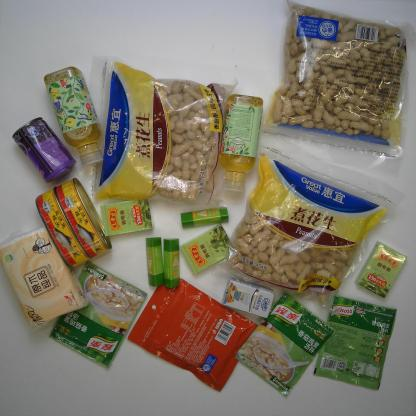Candy: (180, 224, 239, 276), (355, 241, 407, 297), (100, 195, 153, 238)
Canned Food: (55, 177, 112, 258), (36, 188, 92, 268), (13, 118, 77, 184)
Dried Food: (210, 125, 408, 316), (254, 0, 414, 176), (74, 55, 239, 209)
Dried Fruit: (127, 269, 260, 393)
Drink: (44, 66, 103, 166), (219, 93, 264, 194)
Milk: (223, 278, 275, 319)
Seasoner: (50, 260, 148, 368), (235, 292, 334, 396), (314, 294, 398, 389)
Stationery: (180, 206, 230, 228), (145, 237, 165, 287), (164, 239, 180, 289)
Tissue: (0, 225, 89, 329)
